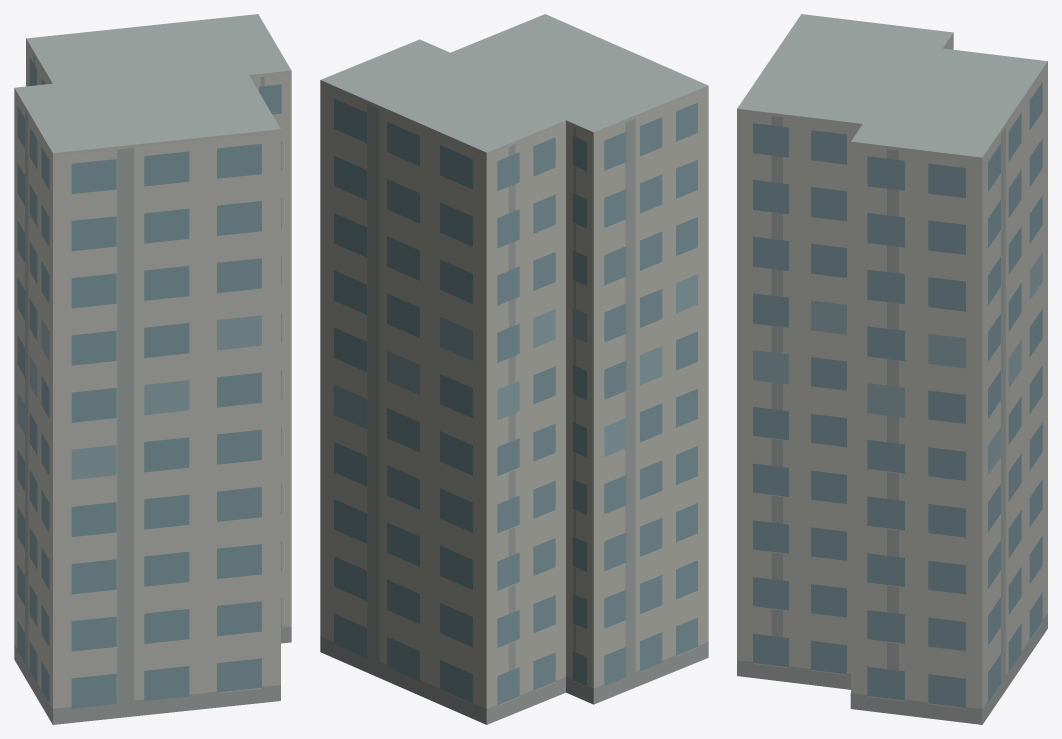
File: residential-73a25d70-9dc9-4730-927c-b5622bccd693.glb
The picture shows the model from 3 angles, left to right: view 1: azimuth 30°, elevation 25°; view 2: azimuth 150°, elevation 25°; view 3: azimuth 270°, elevation 25°; orthographic projection.
Parts seen in each view (by area): view 1: residential-73a25d70-9dc9-4730-927c-b5622bccd693.tmp; view 2: residential-73a25d70-9dc9-4730-927c-b5622bccd693.tmp; view 3: residential-73a25d70-9dc9-4730-927c-b5622bccd693.tmp.
Part boxes in pixels (x1,y1,x2,y2): residential-73a25d70-9dc9-4730-927c-b5622bccd693.tmp: (14, 14, 291, 724); residential-73a25d70-9dc9-4730-927c-b5622bccd693.tmp: (320, 14, 708, 724); residential-73a25d70-9dc9-4730-927c-b5622bccd693.tmp: (737, 14, 1047, 724).
Bounding box in the file's own units: 23.35 × 43 × 21.36.
